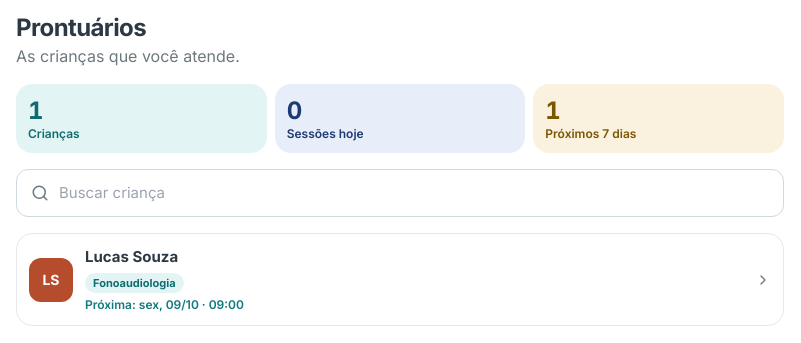
Test: busca sem resultado avisa
Type "zzz" into the search field labelled "Buscar criança" at x=414, y=193, box [59,181,769,205]
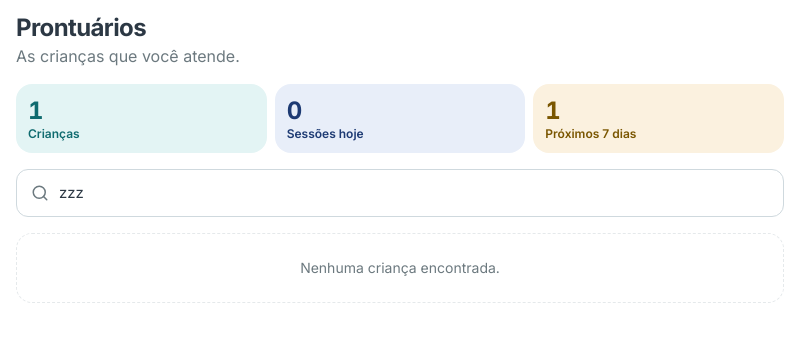
Expected: the text "Nenhuma criança encontrada." is shown, [16,233,784,303]
